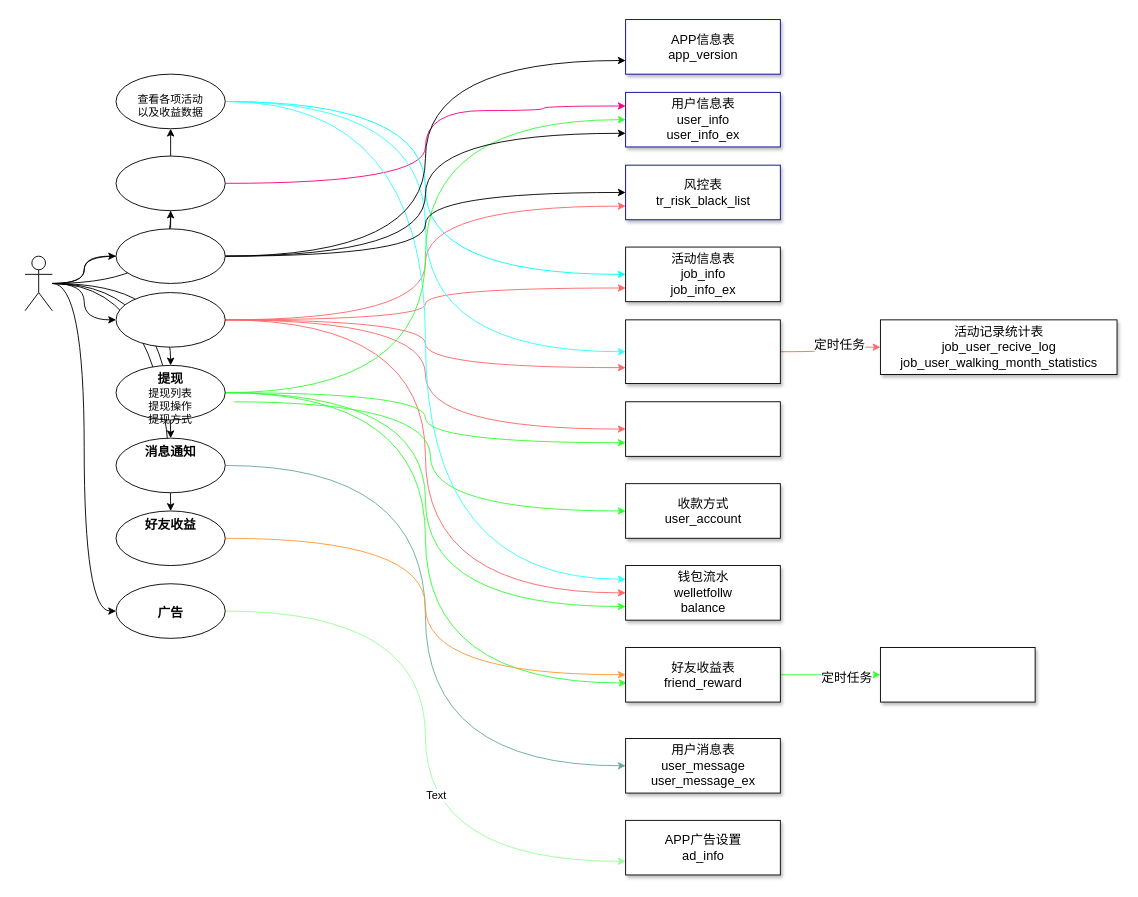
Some shapes in this 1138 by 897 pixel diagram are drawn without their labels. Here are the shapes that lost their labels. From the top down, the centre of each, then its label:
At [170,183]: "注册 * 手机号校验 *推荐码".
At [170,255]: "登录 * 第三方登录 * 风控".
At [38,283]: "APP 用户".
At [170,319]: "参与活动".
At [703,352]: "活动记录表 job_user_recive_log job_user_walking_log task_daliy_log".
At [703,430]: "订单表’ biz_order biz_order_ex".
At [958,675]: "好友收益统计表 friend_reward_statistics".
